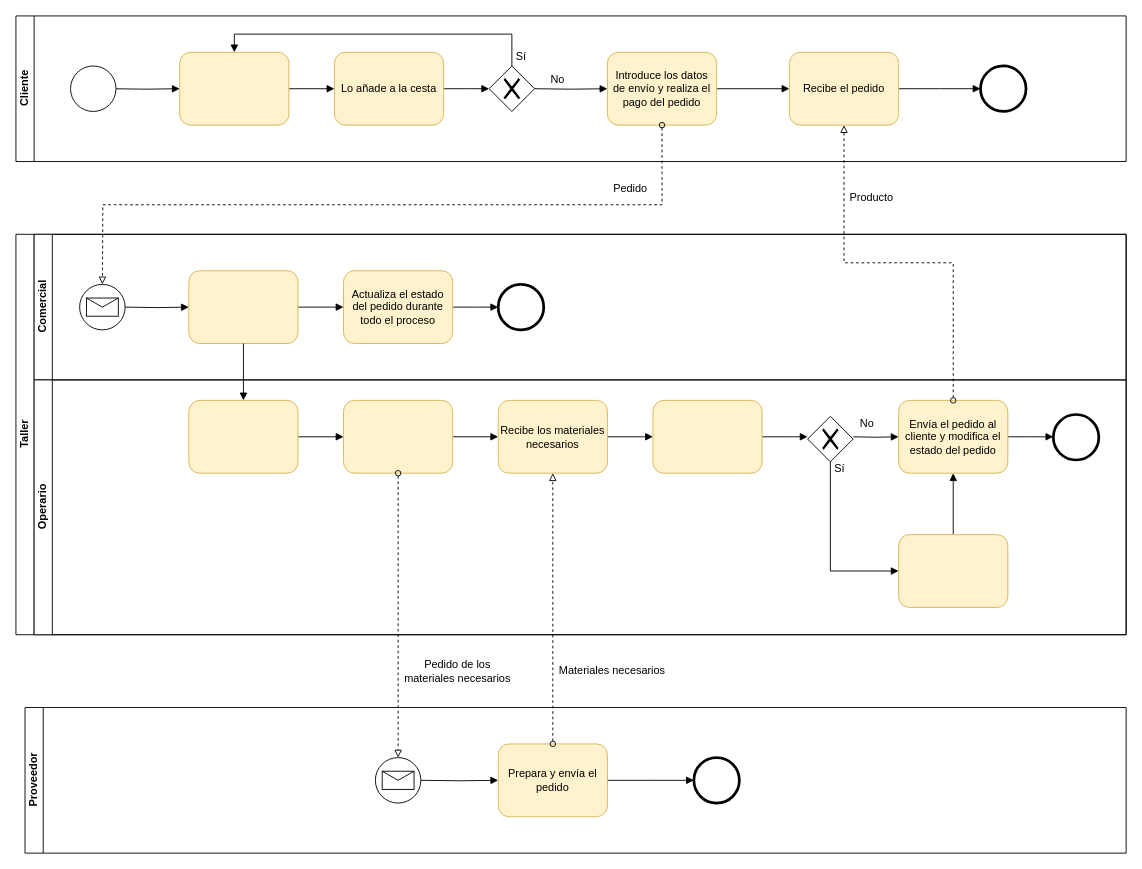
Some shapes in this 1142 by 869 pixel diagram are drawn without their labels. The shapes that lost their labels are listed below. From the top down, each one's centre as x and y in pixels, then its label:
point 234,88: Encuentra un producto de su agrado
point 243,307: Le asigna la fabricación del pedido a un operario
point 243,436: Recibe el pedido que debe generar
point 398,436: Realiza el pedido al proveedor correspondiente
point 707,436: Realiza los producto solicitados en el pedido
point 953,570: Guarda los materiales sobrantes en el almacén
